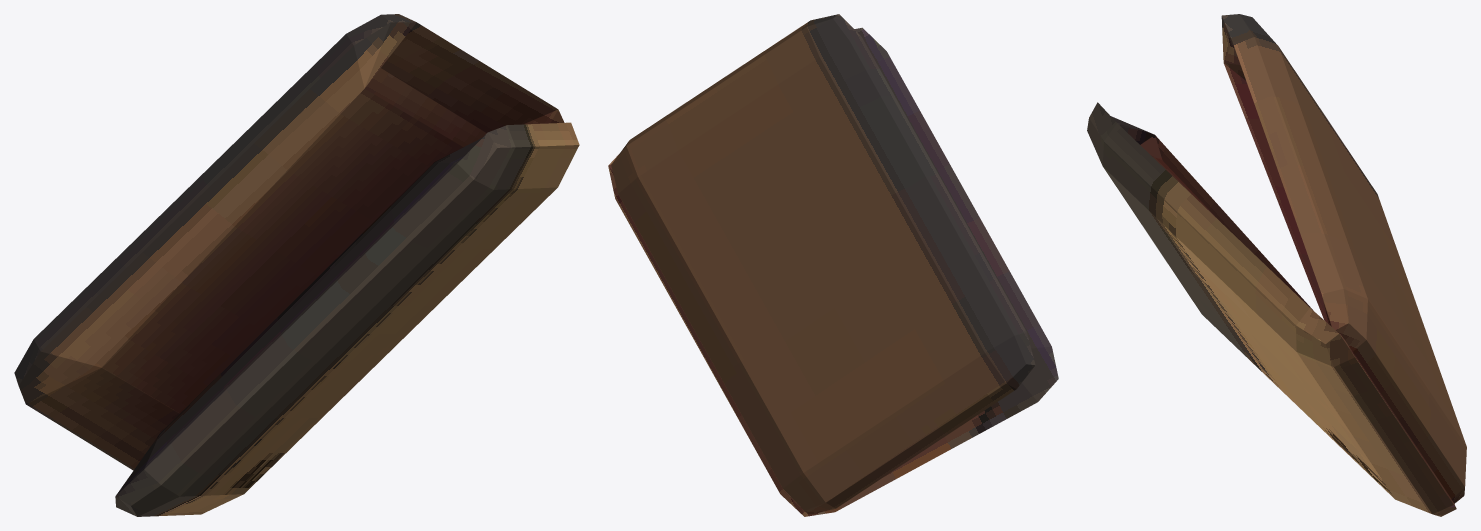
Rendered from item_bait_wallet.glb.
3 renders of one model, left to right at view 1: azimuth 30°, elevation 25°; view 2: azimuth 150°, elevation 25°; view 3: azimuth 270°, elevation 25°, orthographic. The views are drawn at different scales.
Parts seen in each view (by area): view 1: Bait_Wallet; view 2: Bait_Wallet; view 3: Bait_Wallet.
Boxes of the visible parts, bbox=[...] form: Bait_Wallet: bbox=[14, 14, 579, 516]; Bait_Wallet: bbox=[608, 14, 1058, 516]; Bait_Wallet: bbox=[1087, 14, 1466, 516].
Bounding box in the file's own units: 0.1481 × 0.1407 × 0.0904.
1 material, 1 textured.
